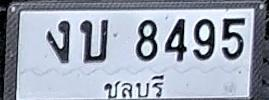4: (164, 18, 187, 61)
5: (222, 17, 244, 60)
8: (135, 19, 157, 61)
9: (193, 18, 214, 60)
A07: (46, 20, 70, 63)
A26: (80, 19, 108, 63)
CBI: (97, 72, 170, 100)
